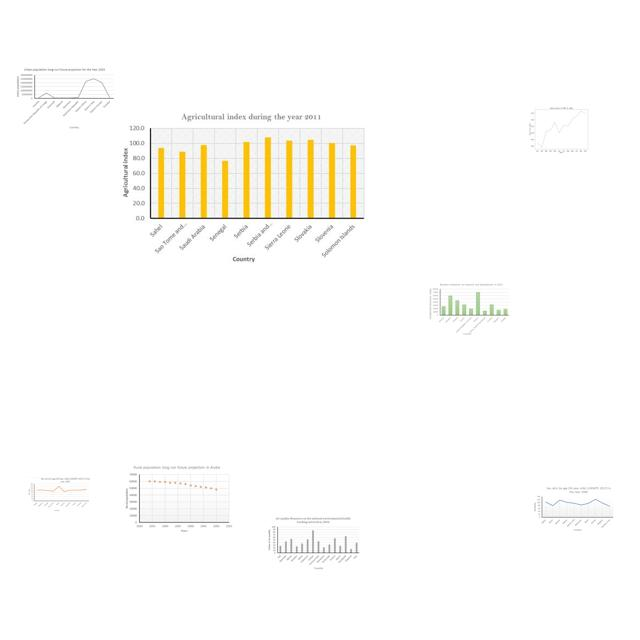Graph: (115, 110, 367, 263), (124, 464, 233, 533), (15, 66, 115, 132), (266, 516, 361, 571), (429, 282, 510, 337), (532, 485, 615, 532), (523, 103, 598, 155), (28, 477, 90, 512)
